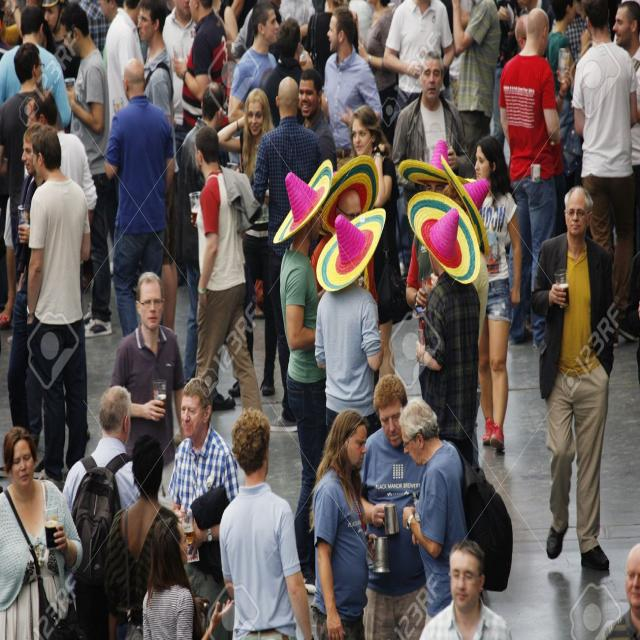body: (530, 180, 617, 576), (251, 73, 327, 434), (21, 121, 95, 489), (273, 158, 335, 595), (216, 406, 318, 639), (572, 0, 639, 350), (188, 124, 264, 414), (380, 0, 458, 279), (499, 6, 561, 344), (103, 55, 177, 338), (407, 191, 482, 470), (177, 80, 238, 411), (501, 11, 562, 341), (216, 87, 278, 399), (358, 373, 428, 640), (168, 376, 239, 637), (109, 270, 187, 506), (0, 420, 84, 639), (398, 396, 476, 627), (431, 176, 492, 471), (61, 0, 113, 340), (0, 42, 58, 345), (314, 207, 387, 434), (102, 434, 180, 640), (304, 409, 373, 639), (135, 0, 181, 337), (474, 136, 523, 452), (392, 49, 469, 250), (348, 102, 401, 378), (298, 3, 385, 171), (5, 121, 46, 452), (314, 152, 382, 336), (139, 512, 237, 639), (404, 151, 451, 399), (23, 86, 101, 228), (61, 386, 141, 513), (160, 0, 197, 269), (0, 2, 75, 132), (612, 0, 640, 337), (419, 540, 513, 640), (0, 0, 115, 81), (451, 0, 501, 165), (262, 16, 331, 130), (538, 6, 572, 231), (171, 0, 228, 133), (227, 0, 280, 125), (227, 0, 280, 124), (357, 0, 400, 151), (102, 0, 146, 139), (286, 1, 361, 64), (211, 0, 285, 61), (298, 66, 339, 174), (600, 536, 640, 639), (0, 186, 25, 347), (561, 0, 612, 78), (497, 0, 558, 61)
